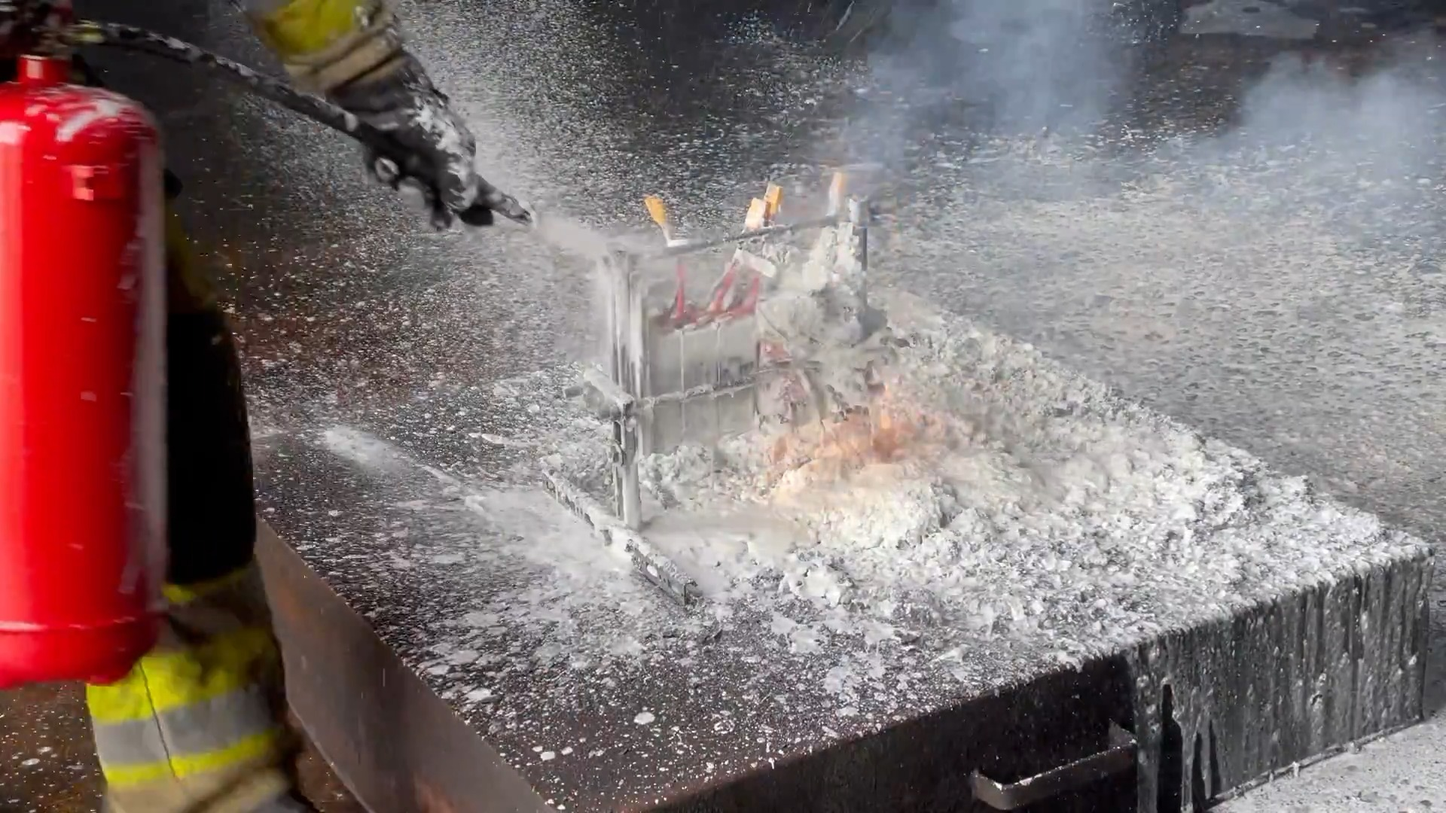fire: (753, 364, 946, 486)
smoke: (895, 1, 1130, 177), (1197, 54, 1446, 217)
